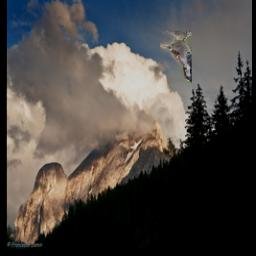Sparrow: (161, 32, 193, 84)
